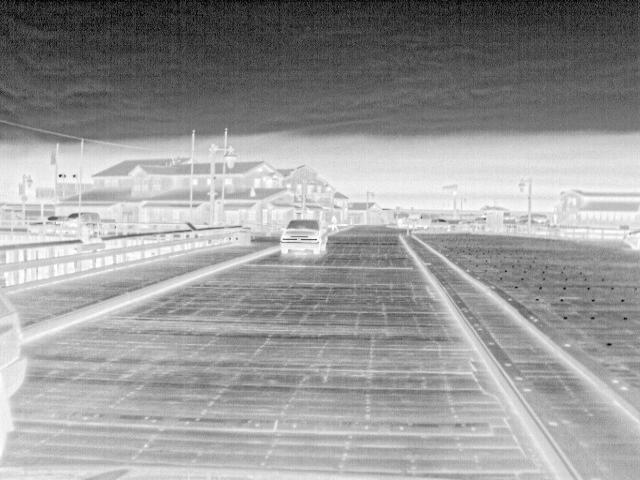car: (0, 287, 30, 434), (280, 217, 330, 255), (397, 212, 432, 229), (79, 209, 115, 224), (431, 218, 451, 232)
person: (328, 213, 340, 233)
